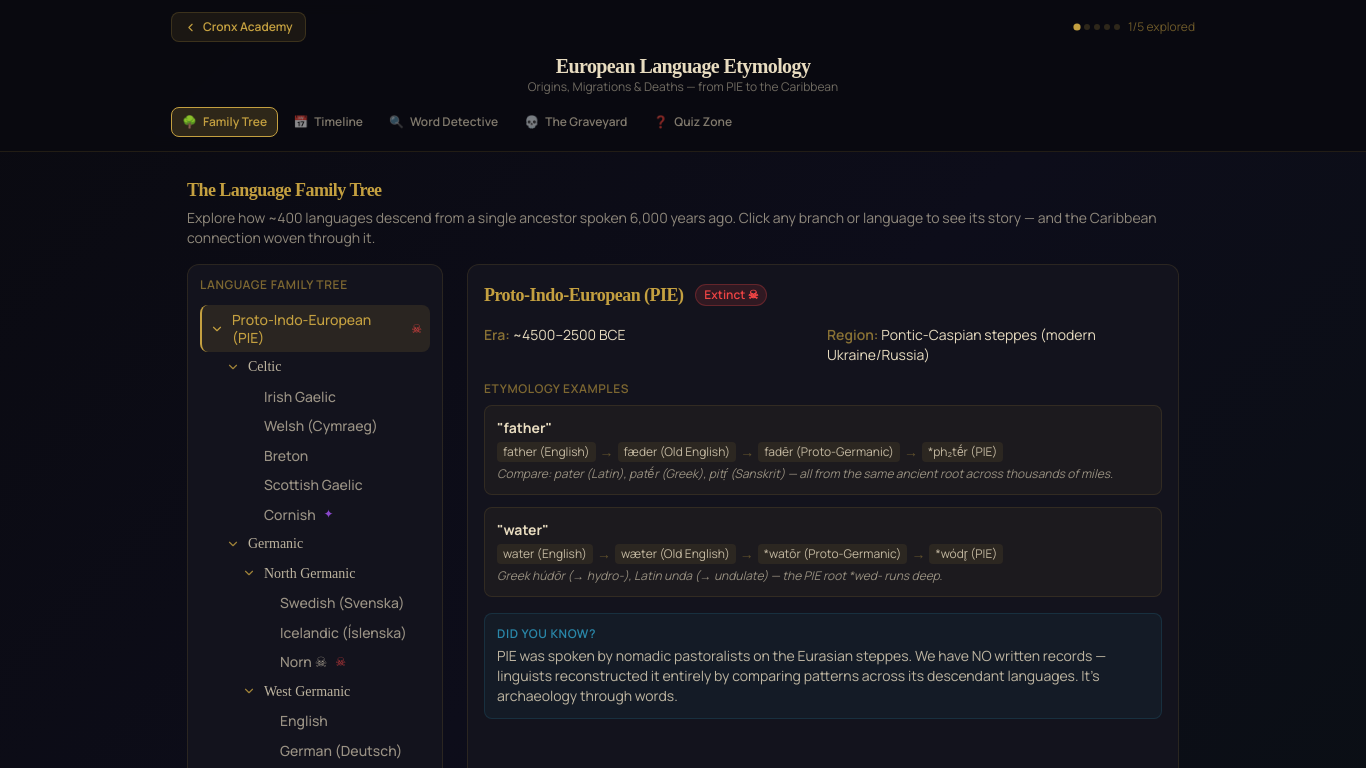
Test: EtymologyInteractive › Section 4: Dead Languages Graveyard › clicking a language card reveals its detail section
Step 1. Click the text "The Graveyard" → (586, 122), box [545, 114, 627, 130]
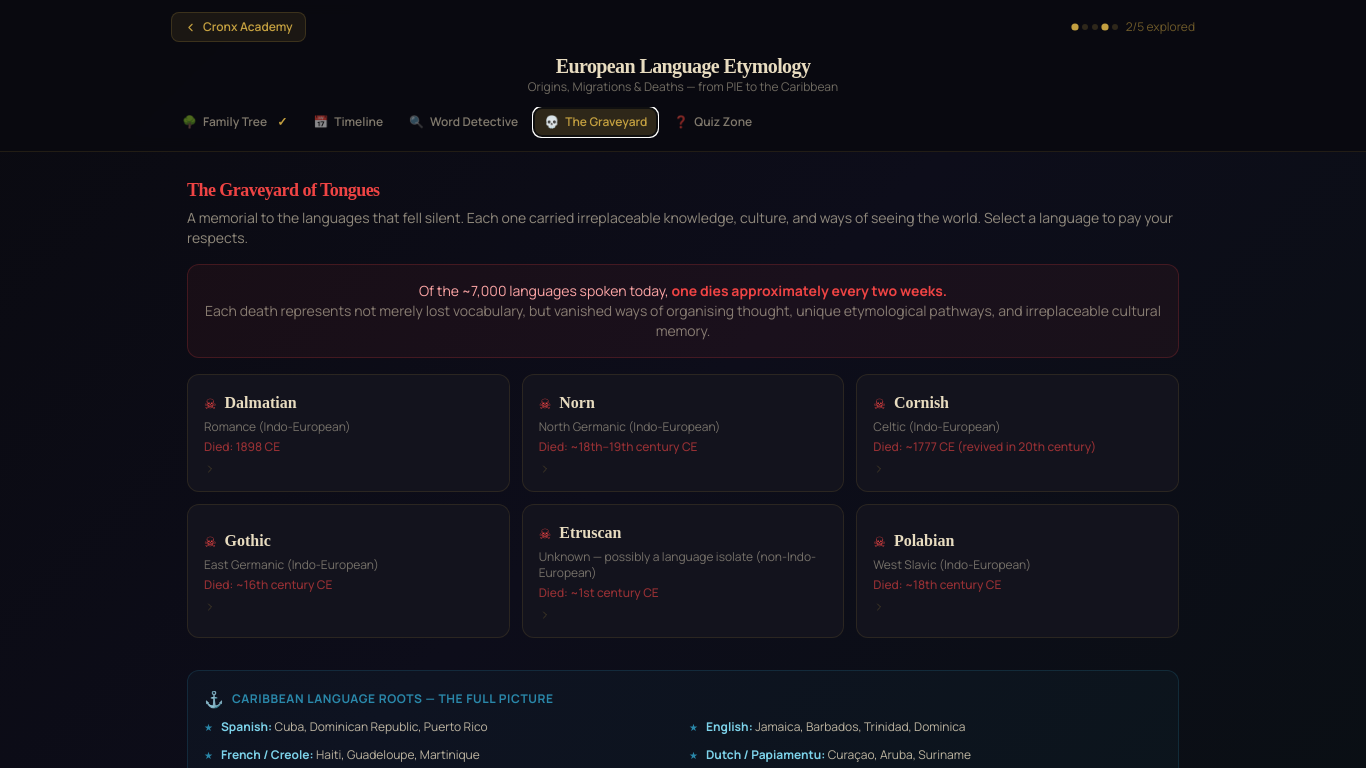
Step 2. Click the text "Dalmatian" → (261, 403), box [225, 391, 297, 415]
(page scrolled)
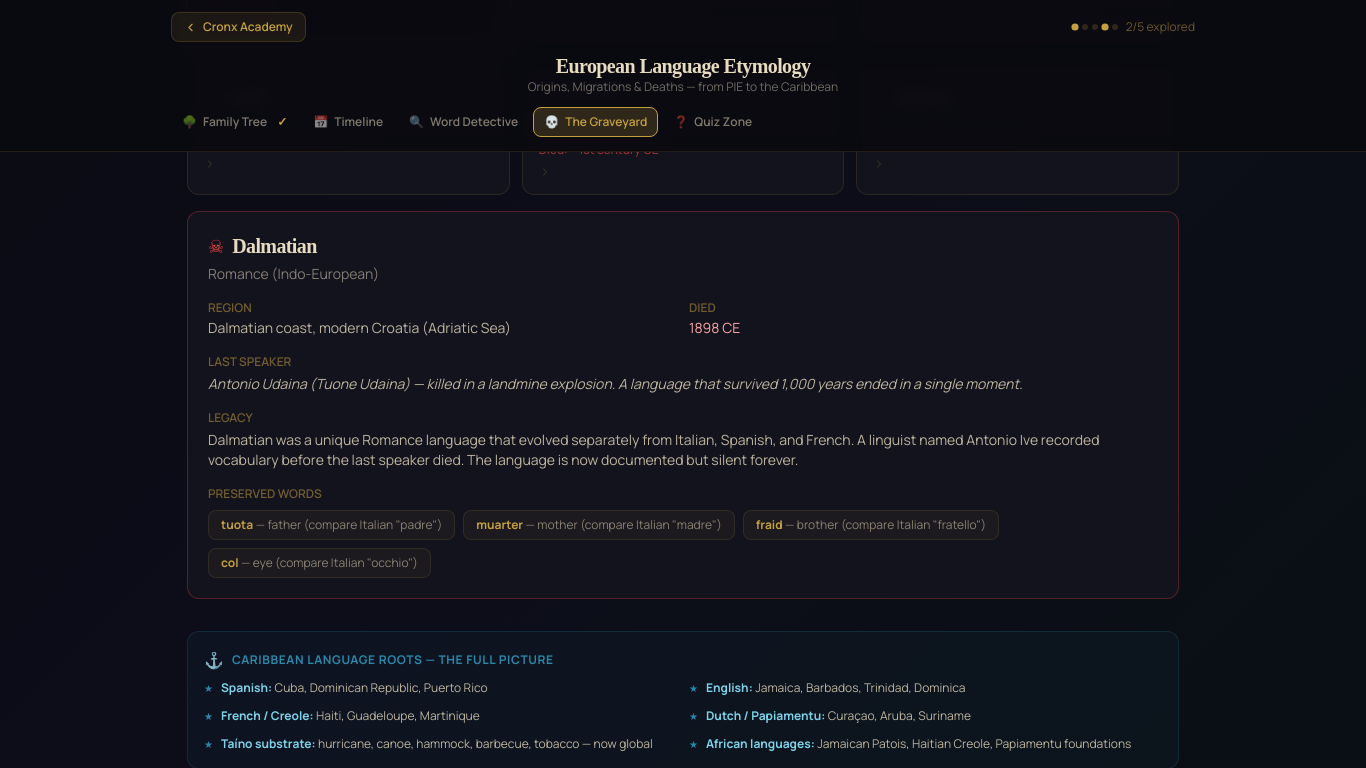
Result: the text "Udaina" is shown at [208, 374, 1022, 393]
